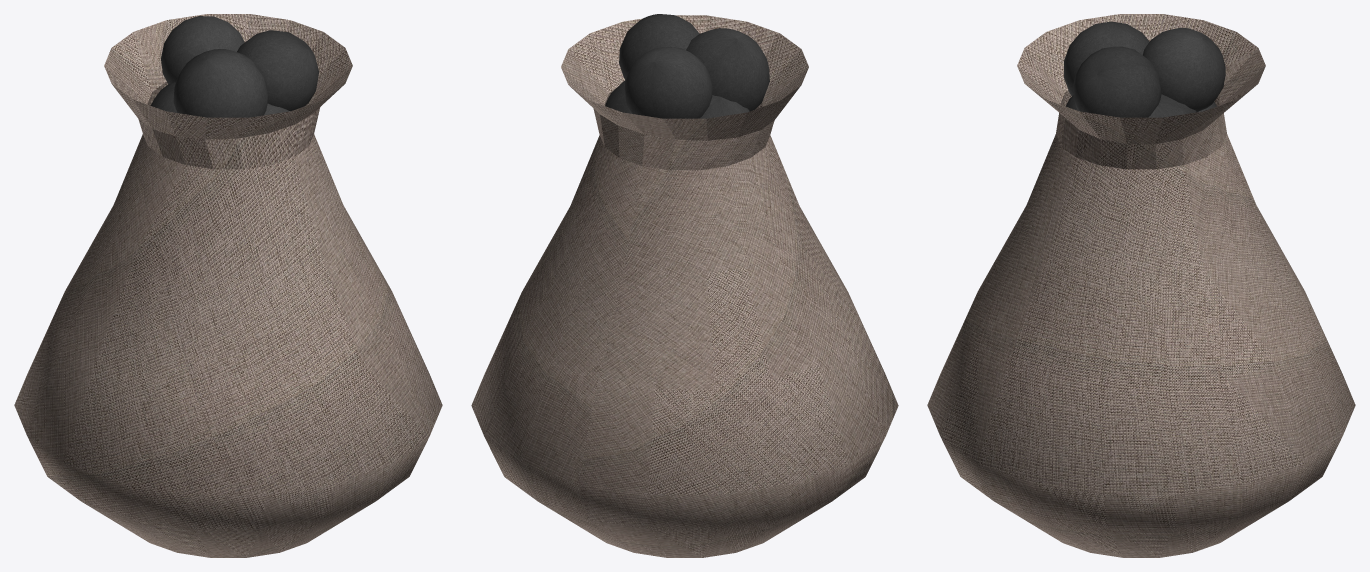
The model's file is Bag O Bullets.fbx.
The picture shows the model from 3 angles, left to right: view 1: azimuth 30°, elevation 25°; view 2: azimuth 150°, elevation 25°; view 3: azimuth 270°, elevation 25°; orthographic projection.
Parts seen in each view (by area): view 1: bagOBulletsBullet1, bagOBulletsBullet3, bagOBulletsBullet6, bagOBulletsBullet5; view 2: bagOBulletsBullet1, bagOBulletsBullet5, bagOBulletsBullet3, bagOBulletsBullet6, bagOBulletsBullet2; view 3: bagOBulletsBullet1, bagOBulletsBullet6, bagOBulletsBullet5, bagOBulletsBullet3, bagOBulletsBullet4.
Boxes of the visible parts, <box> form: bagOBulletsBullet1: <box>14,14,442,557</box>; bagOBulletsBullet3: <box>173,49,267,117</box>; bagOBulletsBullet6: <box>237,30,318,110</box>; bagOBulletsBullet5: <box>161,16,244,83</box>; bagOBulletsBullet1: <box>471,15,898,557</box>; bagOBulletsBullet5: <box>624,47,712,118</box>; bagOBulletsBullet3: <box>686,28,769,111</box>; bagOBulletsBullet6: <box>619,14,699,79</box>; bagOBulletsBullet2: <box>699,95,749,118</box>; bagOBulletsBullet1: <box>927,14,1355,557</box>; bagOBulletsBullet6: <box>1072,46,1161,117</box>; bagOBulletsBullet5: <box>1143,27,1225,112</box>; bagOBulletsBullet3: <box>1064,21,1149,95</box>; bagOBulletsBullet4: <box>1148,94,1196,117</box>.
Bounding box in the file's own units: 84.57 × 110 × 85.87.
Materials: 2 (2 with a texture image).
